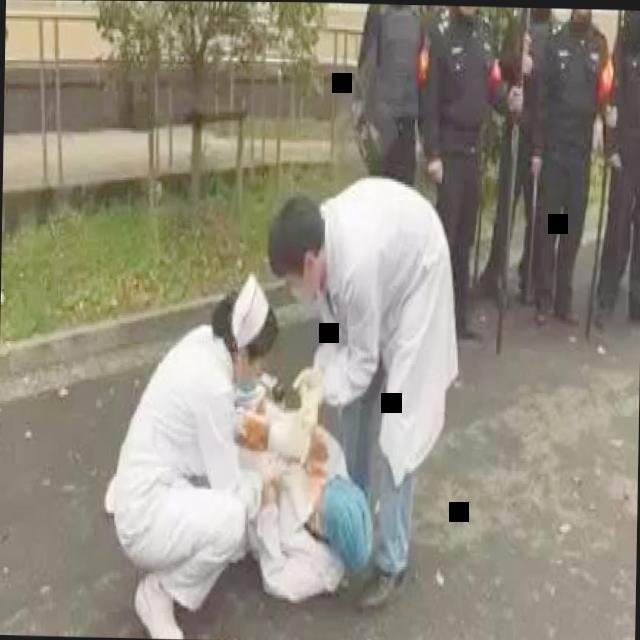Fall-Detected: (231, 380, 381, 615)
